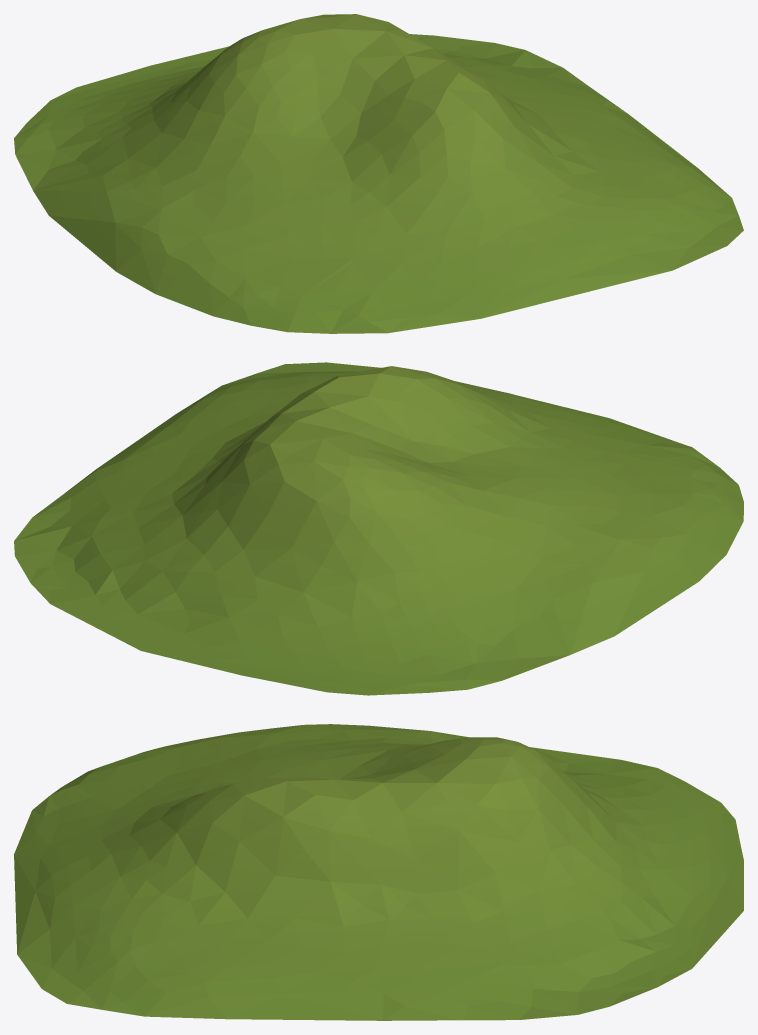
Rendered from Hill_05.glb.
3 views of the same model, one above another, from view 1: azimuth 30°, elevation 25°; view 2: azimuth 150°, elevation 25°; view 3: azimuth 270°, elevation 25° (orthographic). The views are drawn at different scales.
Parts seen in each view (by area): view 1: Hill_05; view 2: Hill_05; view 3: Hill_05.
Boxes of the visible parts, x1,y1,x2,y2 form: Hill_05: [14, 14, 743, 333]; Hill_05: [14, 362, 743, 695]; Hill_05: [14, 724, 743, 1020].
Bounding box in the file's own units: 56.1 × 11.83 × 60.91.
Materials: 1 (1 with a texture image).
